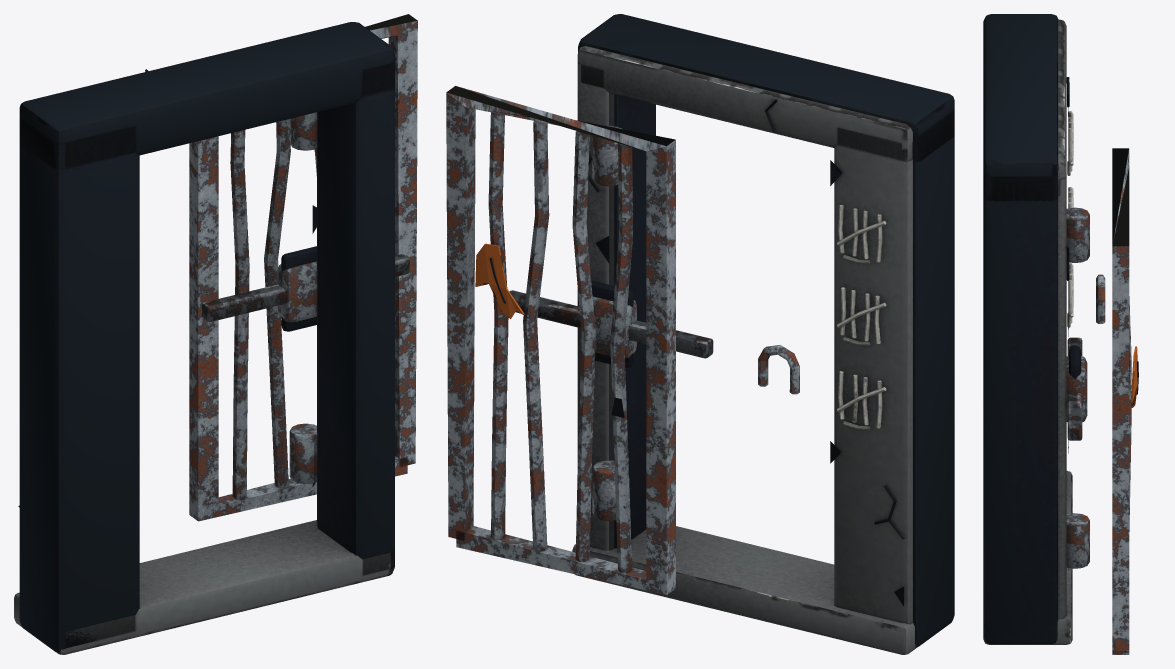
The picture shows the model from 3 angles, left to right: view 1: azimuth 30°, elevation 25°; view 2: azimuth 150°, elevation 25°; view 3: azimuth 270°, elevation 25°; orthographic projection. The views are drawn at different scales.
Parts seen in each view (by area): view 1: Deep_navy_ink, Scuffed_rusted_steel, Concrete_and_chalk; view 2: Concrete_and_chalk, Scuffed_rusted_steel, Deep_navy_ink, Faded_jumpsuit_cotton, anim_Scuffed_rusted_steel_0; view 3: Deep_navy_ink, Scuffed_rusted_steel, Concrete_and_chalk, anim_Scuffed_rusted_steel_0, Faded_jumpsuit_cotton.
Boxes of the visible parts, x1,y1,x2,y2 form: Deep_navy_ink: [18, 22, 394, 652]; Scuffed_rusted_steel: [189, 14, 417, 521]; Concrete_and_chalk: [14, 102, 393, 654]; Concrete_and_chalk: [572, 46, 917, 654]; Scuffed_rusted_steel: [446, 86, 713, 595]; Deep_navy_ink: [489, 14, 954, 647]; Faded_jumpsuit_cotton: [475, 243, 524, 319]; anim_Scuffed_rusted_steel_0: [758, 345, 799, 394]; Deep_navy_ink: [983, 14, 1138, 643]; Scuffed_rusted_steel: [1066, 148, 1131, 654]; Concrete_and_chalk: [983, 19, 1073, 644]; anim_Scuffed_rusted_steel_0: [1096, 274, 1105, 323]; Faded_jumpsuit_cotton: [1131, 346, 1137, 407].
Bounding box in the file's own units: 2.04 × 2.4 × 0.793.
Materials: 4 (4 with a texture image).
